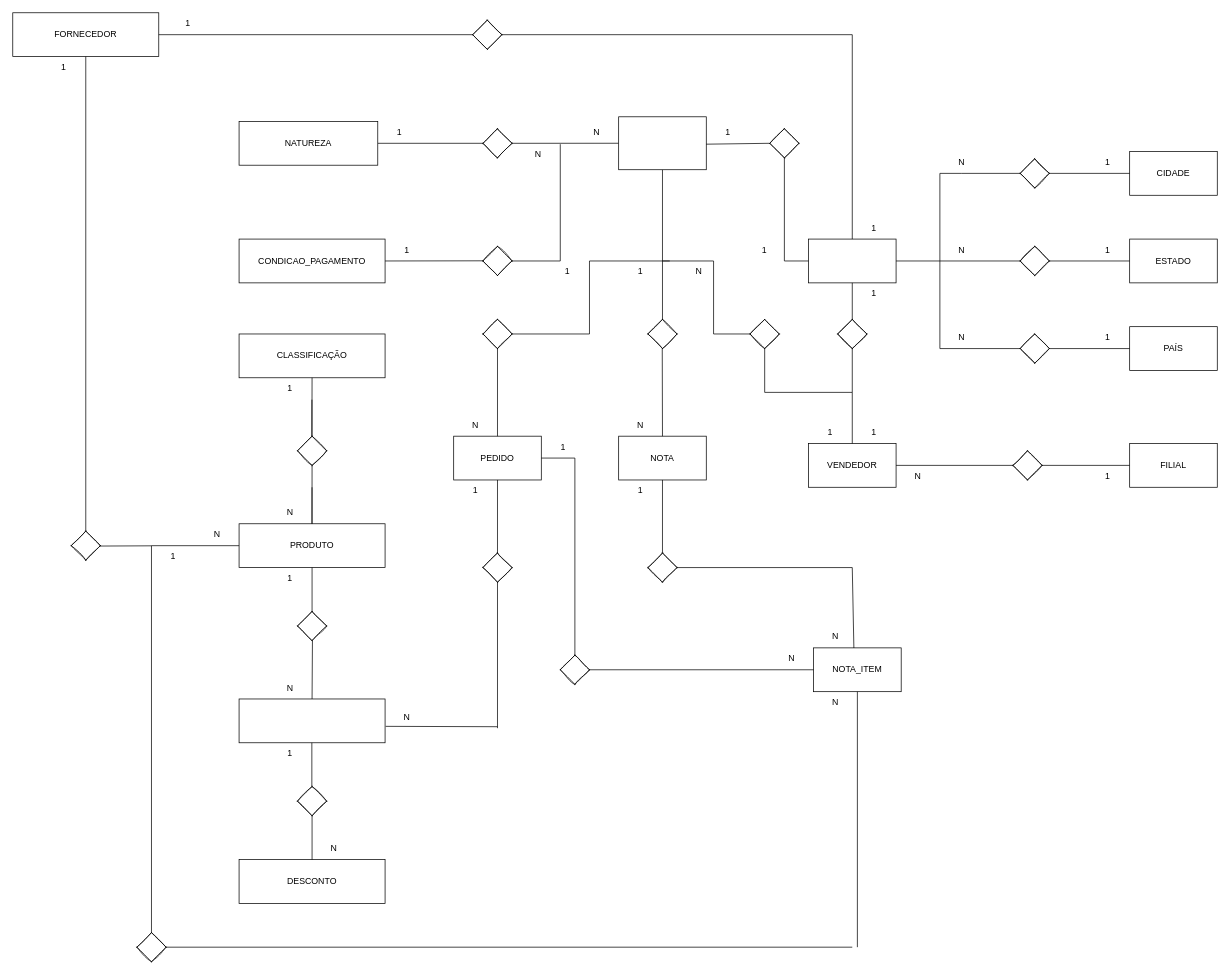
The diagram is 1230 pixels wide and 975 high, and some of its shapes have lost their labels. Each missing label, with the box of its shape:
CLIENTES: (618, 116, 706, 170)
ENDEREÇO: (808, 238, 896, 283)
PEDIDO_ITEM: (238, 698, 385, 743)
